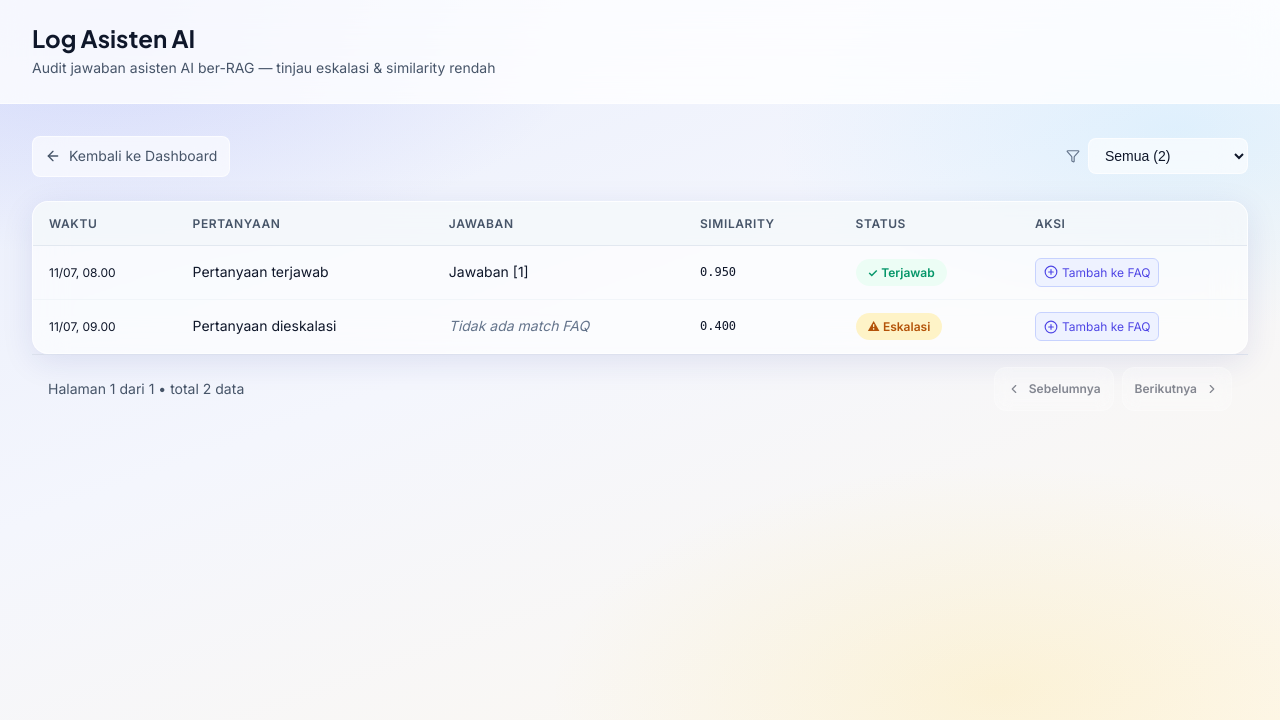
Scenario: I4: Admin AI log page › filter dropdown switches to eskalasi-only view
The width and height of the screenshot is (1280, 720).
expect the text "Pertanyaan terjawab" is shown: met, box [193,263,329,280]
expect the text "Pertanyaan dieskalasi" is shown: met, box [193,317,336,334]
# Switch filter to eskalasi only
Step 1. Select "Eskalasi saja (1)" in the dropdown showing "Semua" → (1168, 156), box [1088,138,1248,174]
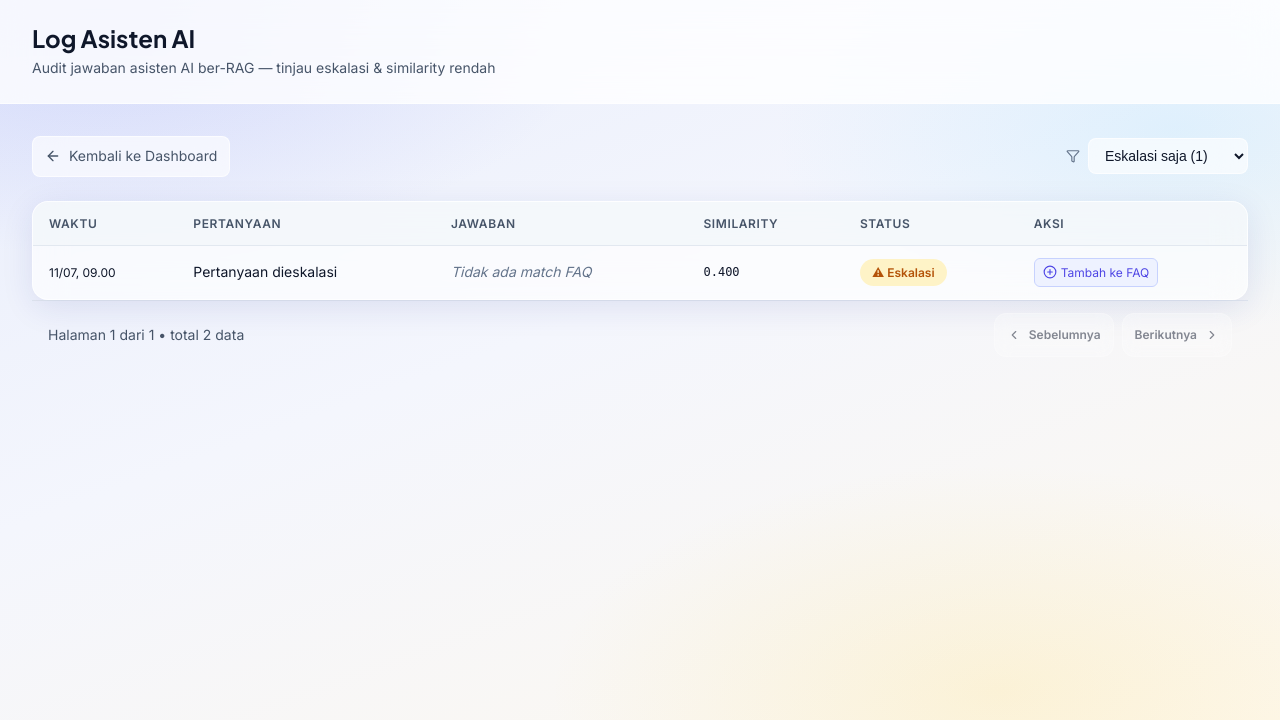
expect the text "Pertanyaan dieskalasi" is shown: met, box [193,263,337,280]
expect the text "Pertanyaan terjawab" is gone: met
